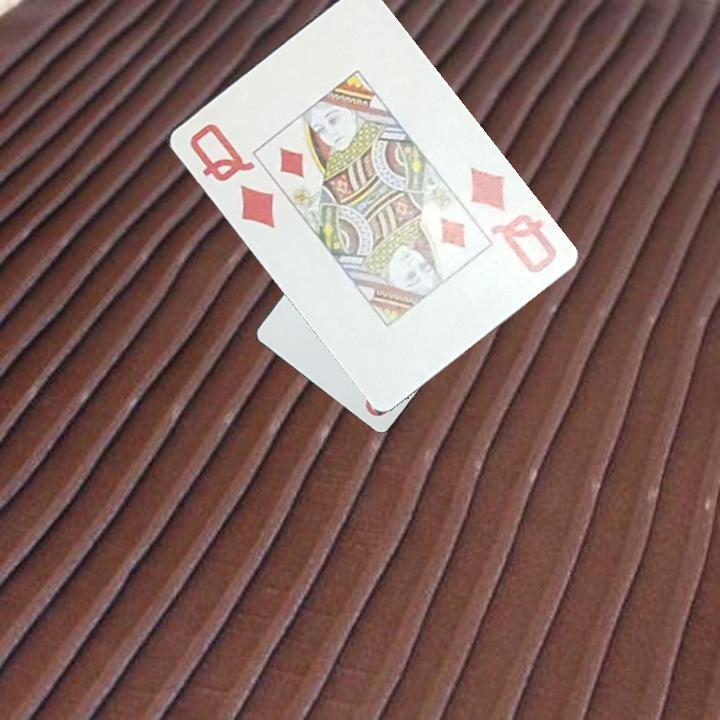Qd: (465, 163, 560, 277), (185, 119, 277, 231)
